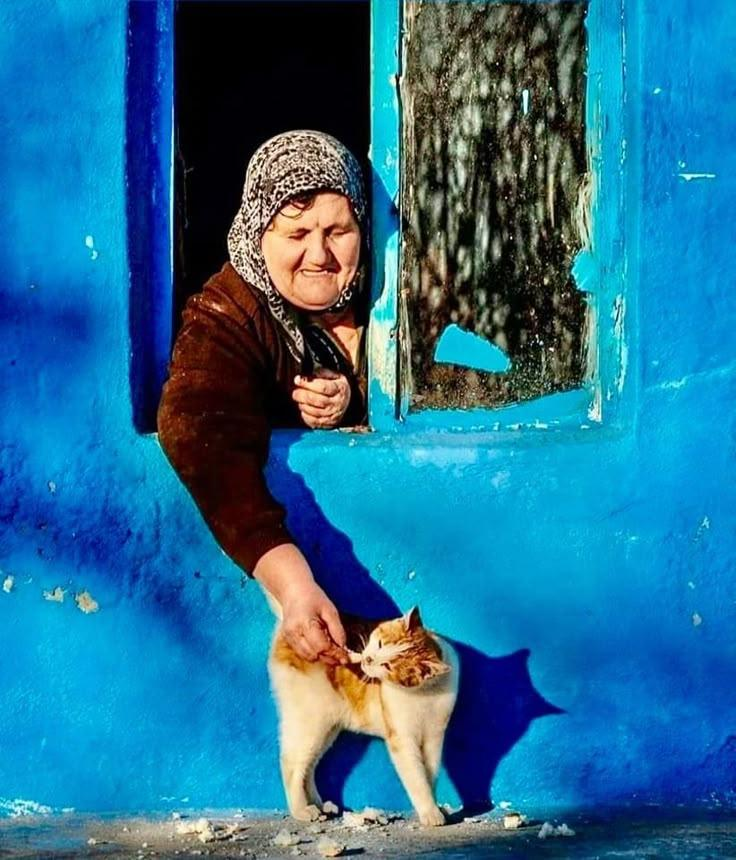kedo: (275, 602, 459, 827)
